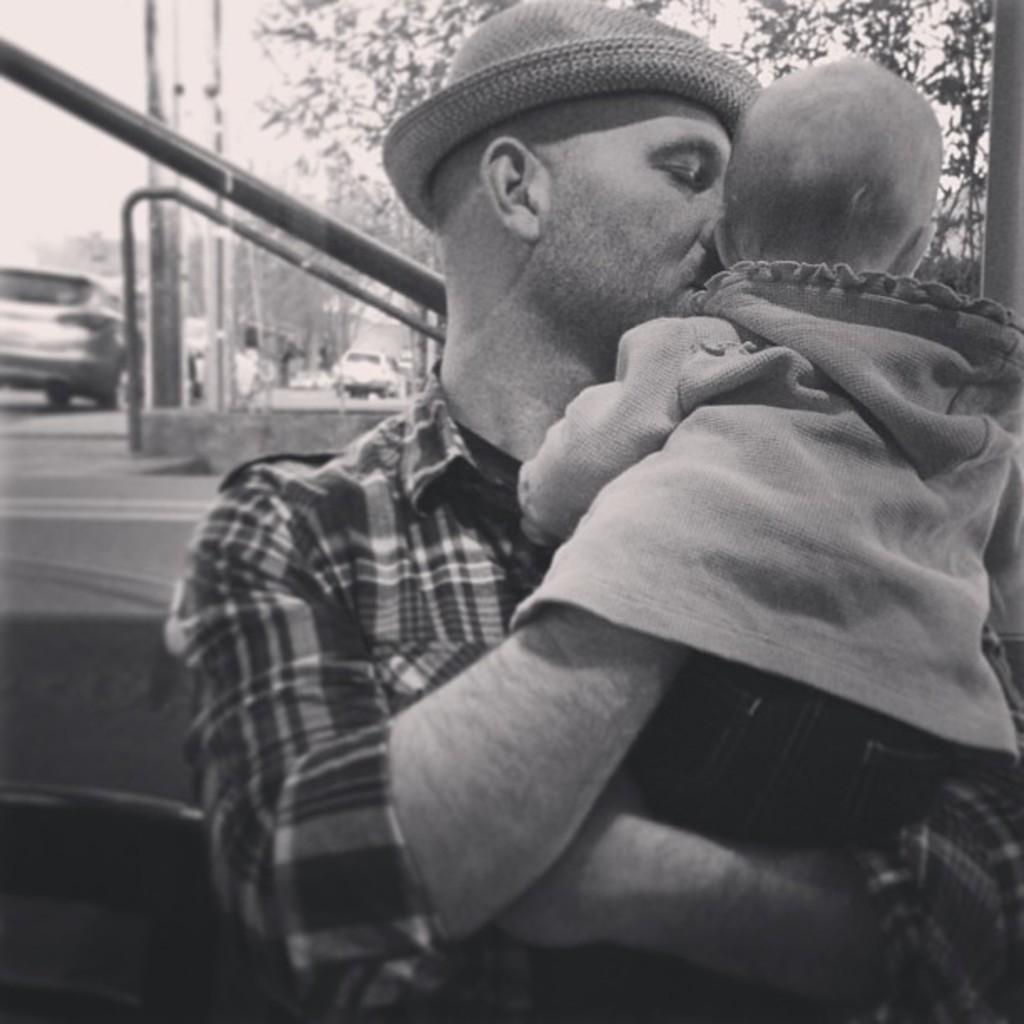Hat: (379, 0, 769, 234)
